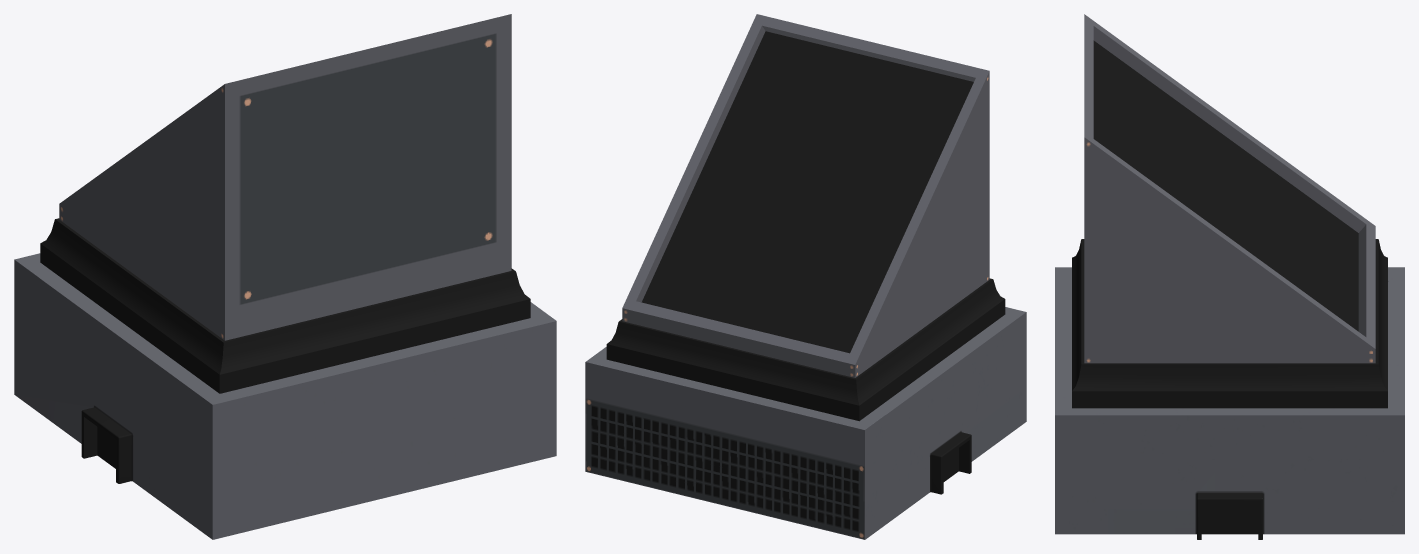
Rendered from Multimeter.fbx.
The picture shows the model from 3 angles, left to right: view 1: azimuth 30°, elevation 25°; view 2: azimuth 150°, elevation 25°; view 3: azimuth 270°, elevation 25°; orthographic projection. The views are drawn at different scales.
Parts seen in each view (by area): view 1: meters; view 2: meters; view 3: meters.
Boxes of the visible parts, x1,y1,x2,y2 form: meters: (14, 14, 556, 539); meters: (585, 14, 1026, 539); meters: (1055, 14, 1404, 539).
Size of the model in its own units: 0.8703 by 0.9798 by 0.8074.
